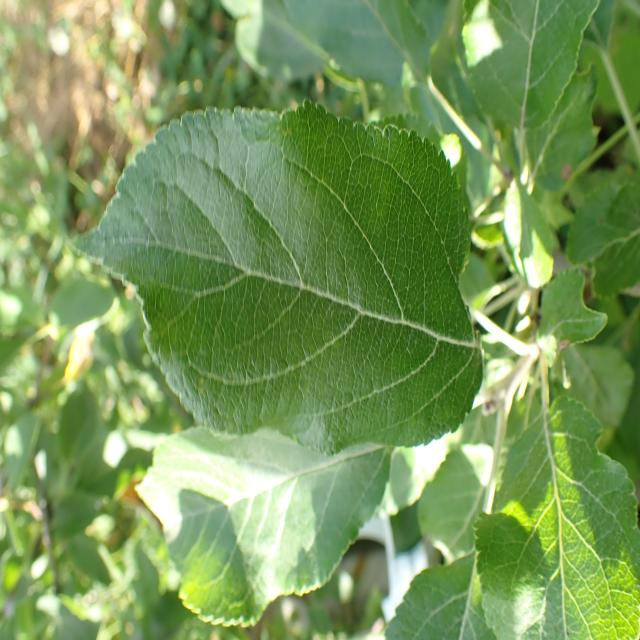healthy: (72, 98, 486, 454), (384, 394, 640, 640), (135, 422, 390, 628), (456, 0, 599, 130)
